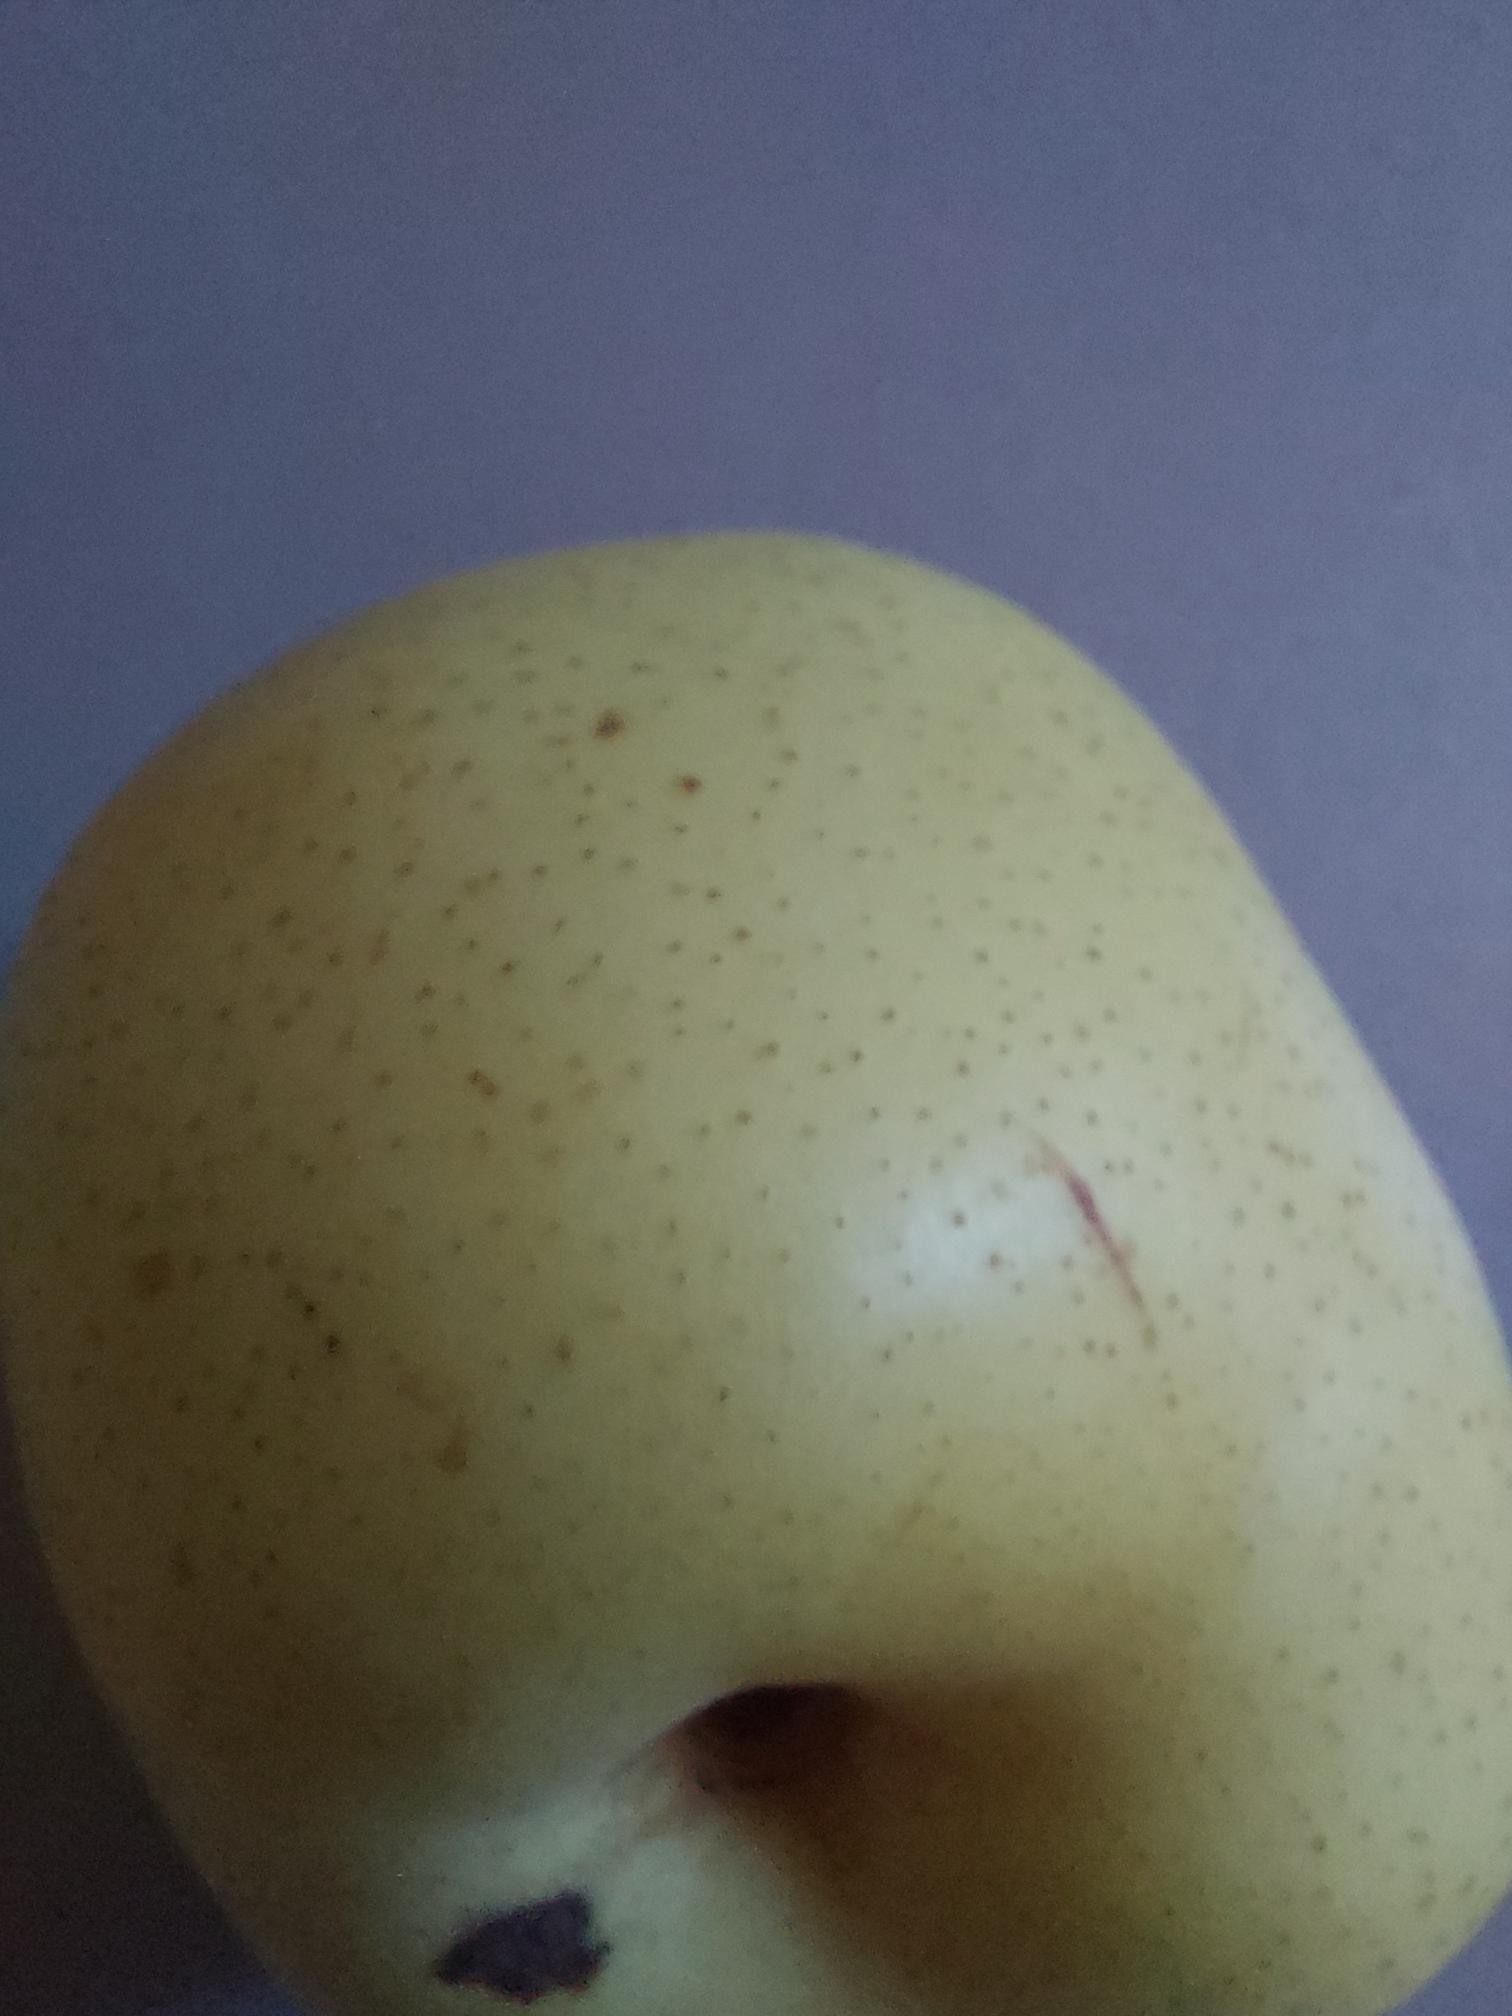Good Pear: (0, 481, 1512, 2016)
